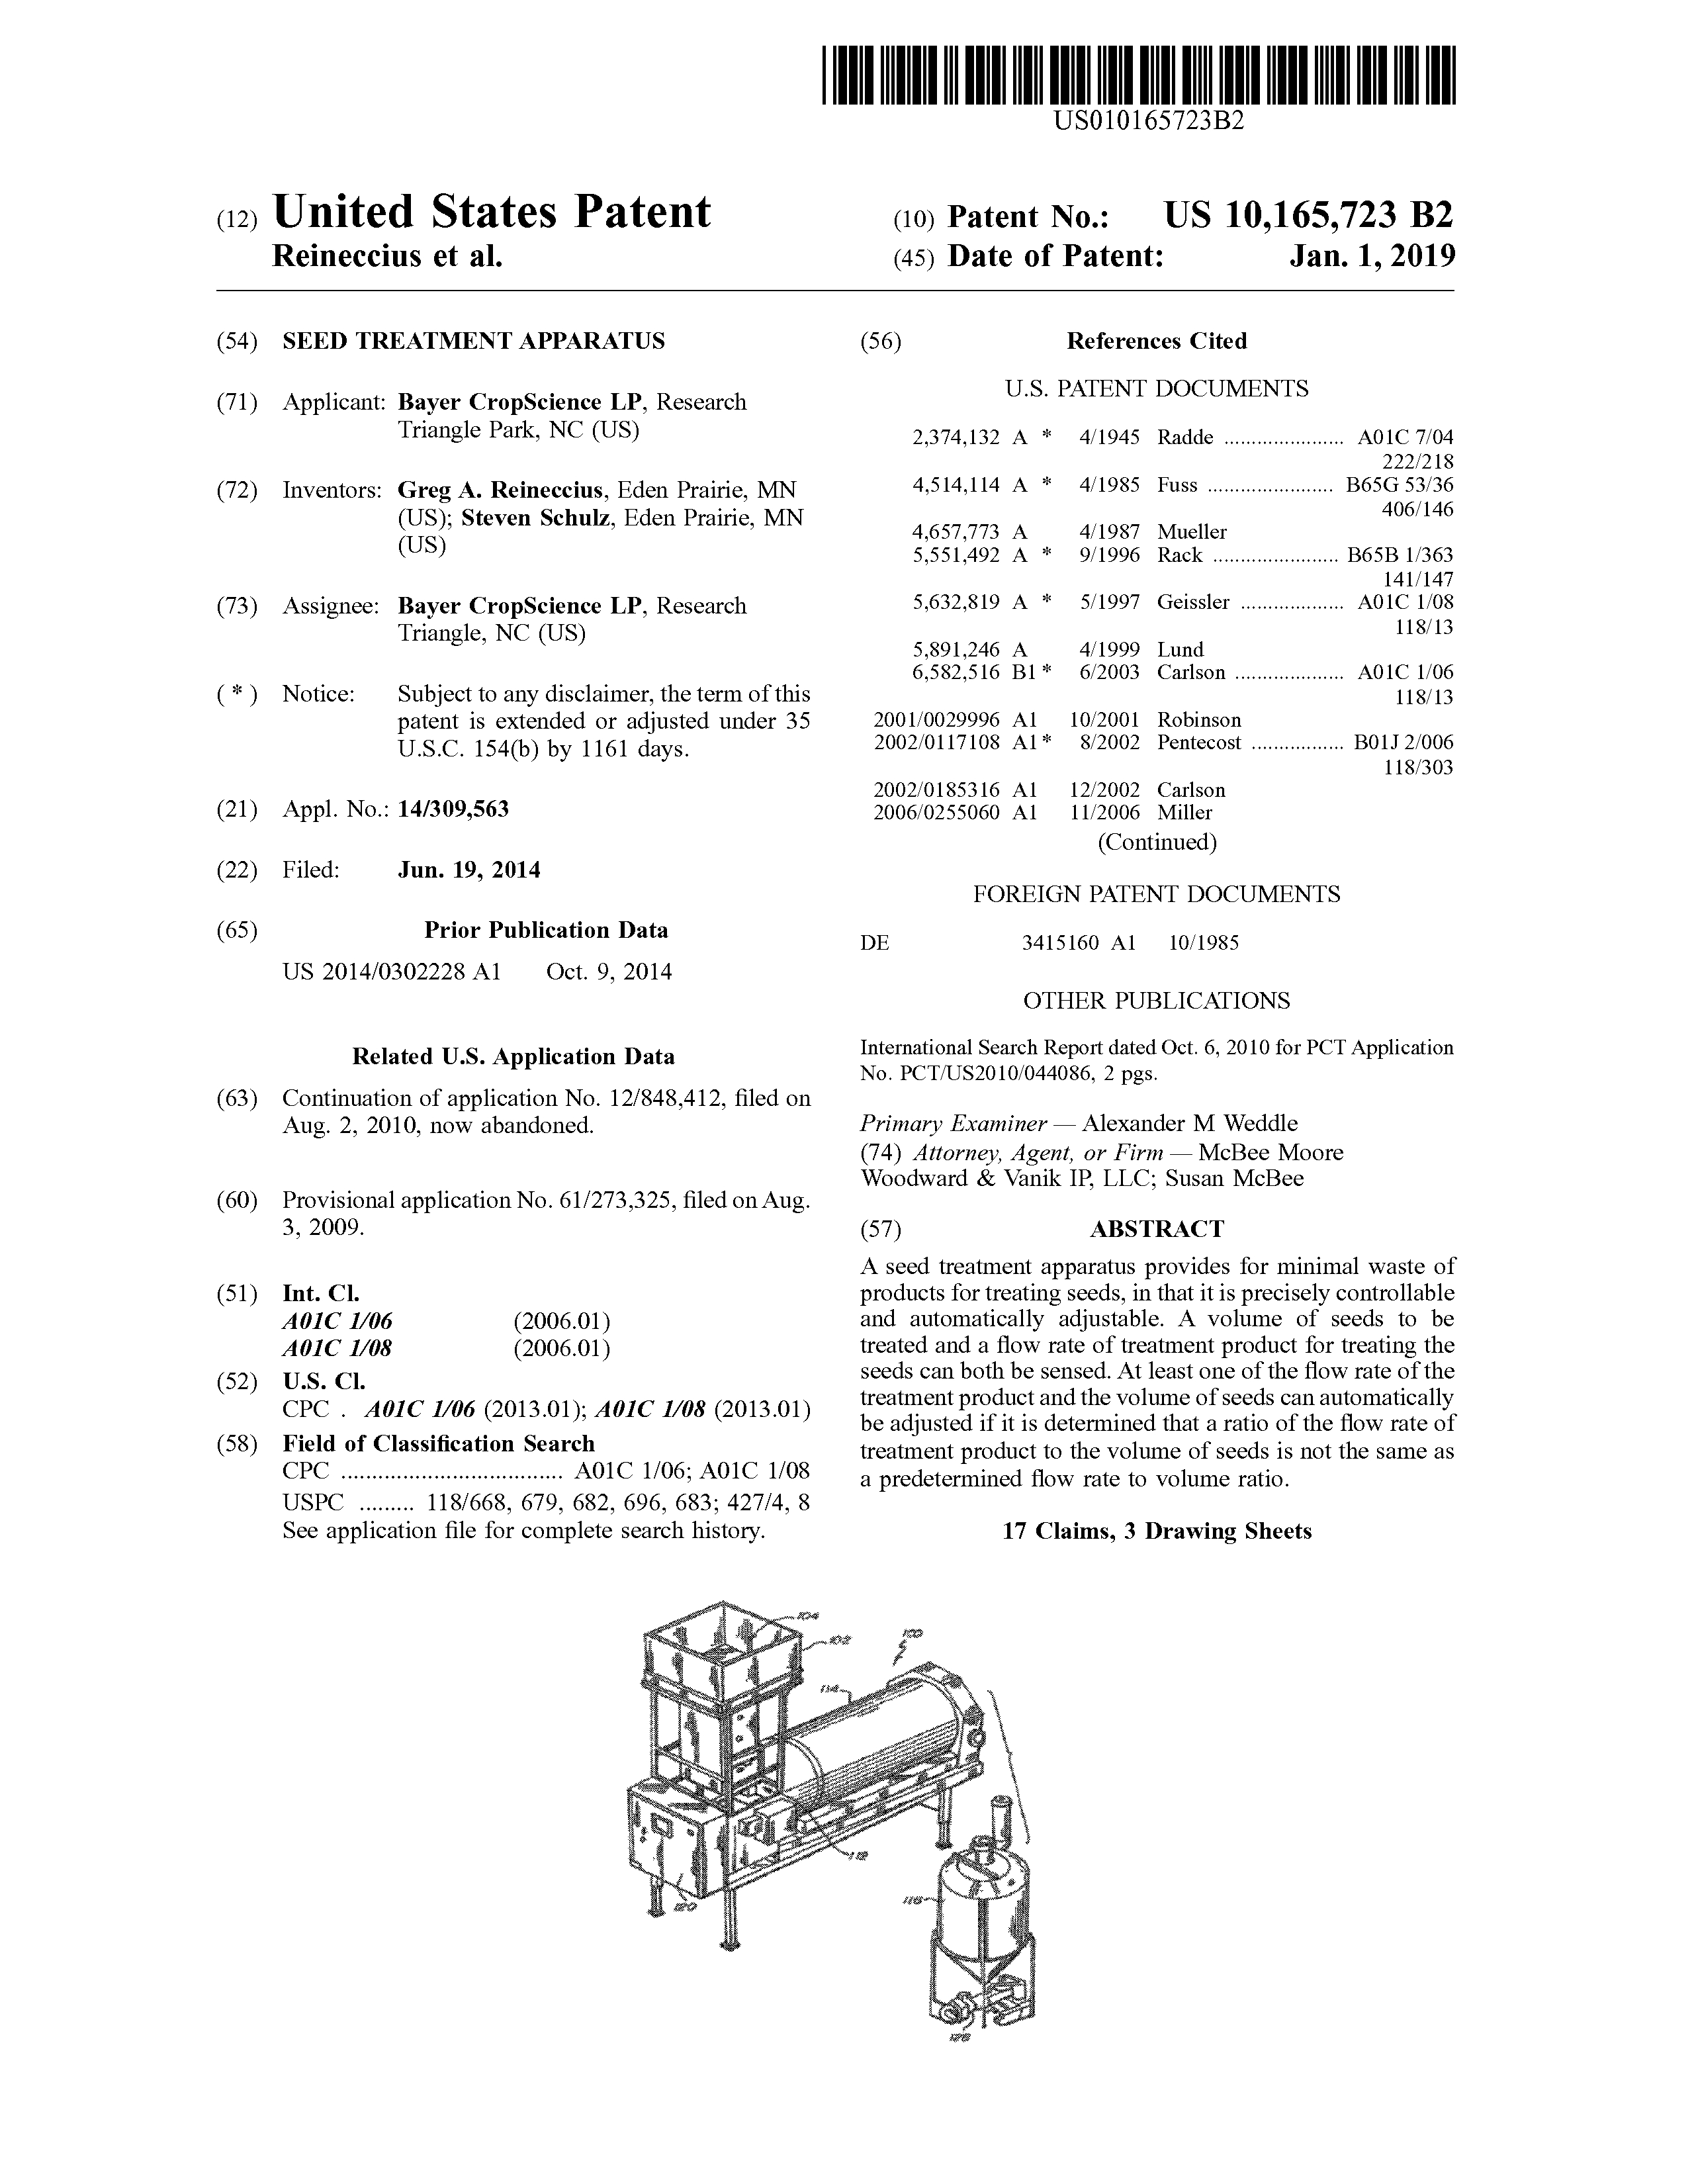patent image: (555, 1576, 1098, 2097)
